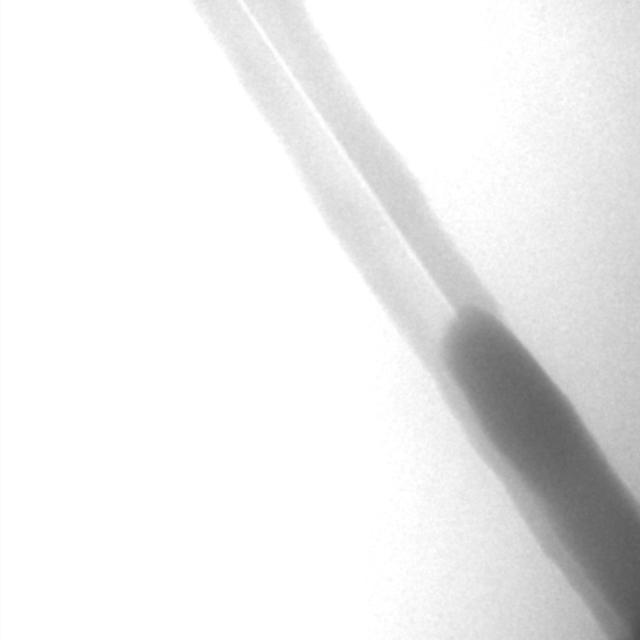broken arc: (242, 2, 456, 316)
